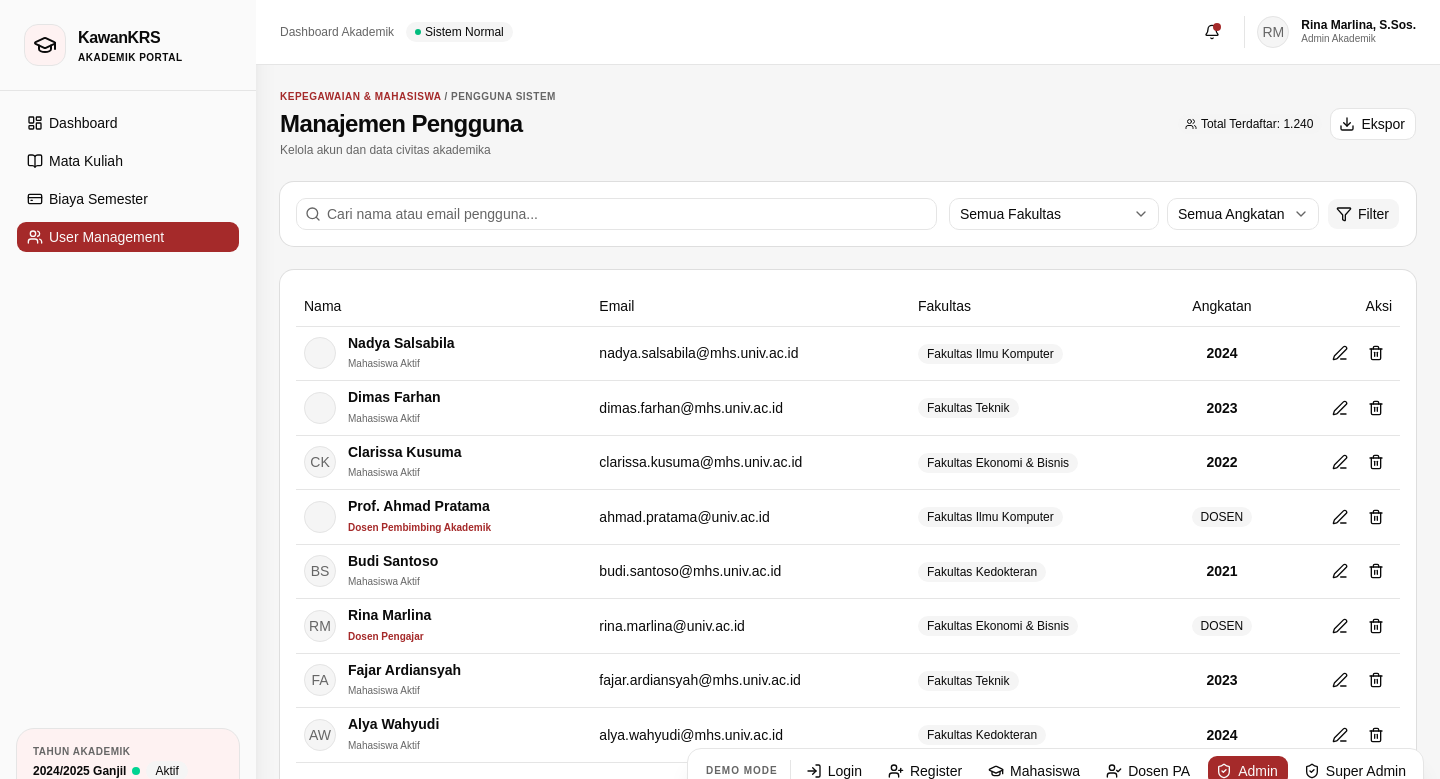
Test: shadcn controls and accessibility › requires explicit confirmation before deleting on /admin/pengguna
This screenshot has width=1440, height=779.
Step 1. Click the button named "Hapus" in the row of "Nadya Salsabila" → click(1376, 353), box [1360,337,1392,369]
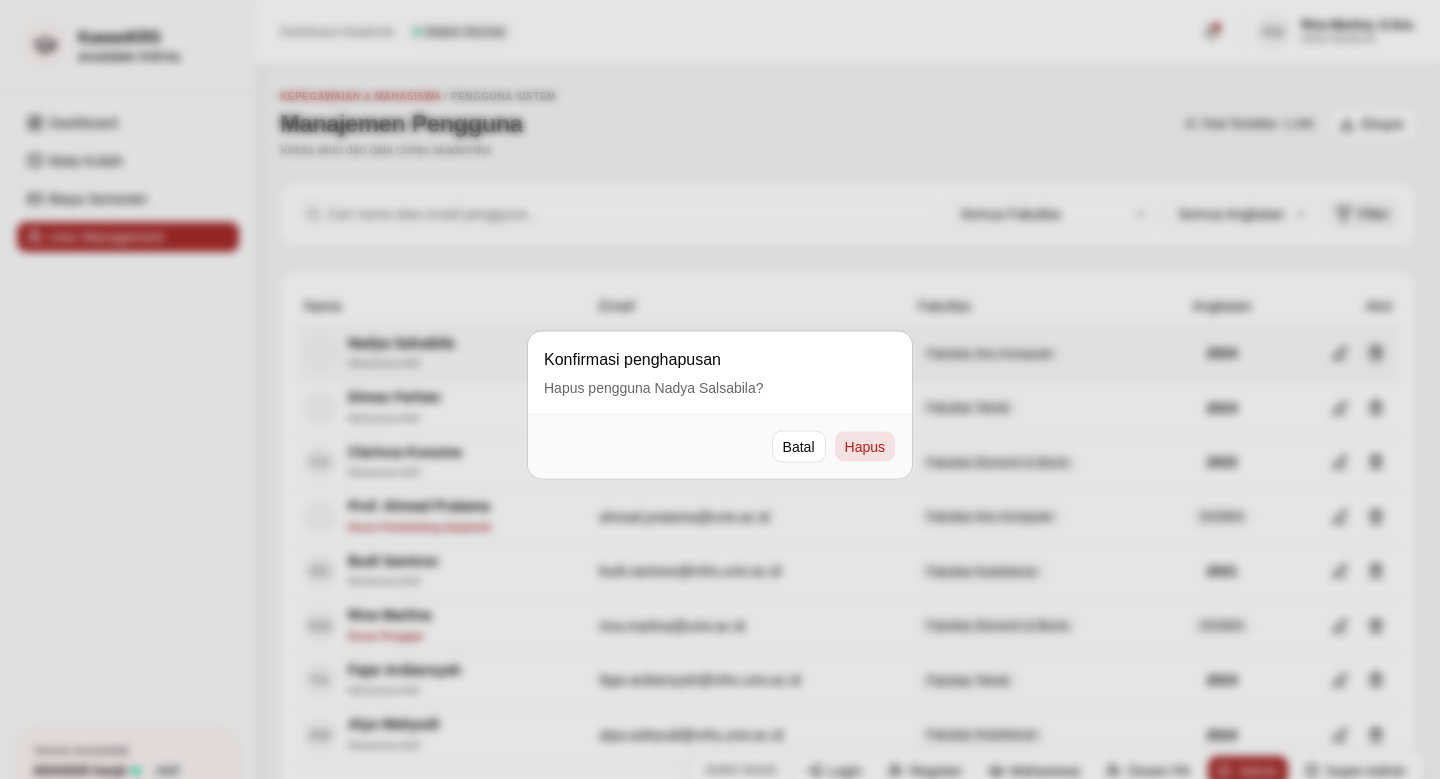
Step 2. Click the button "Batal" → click(799, 446), box [772,430,826,462]
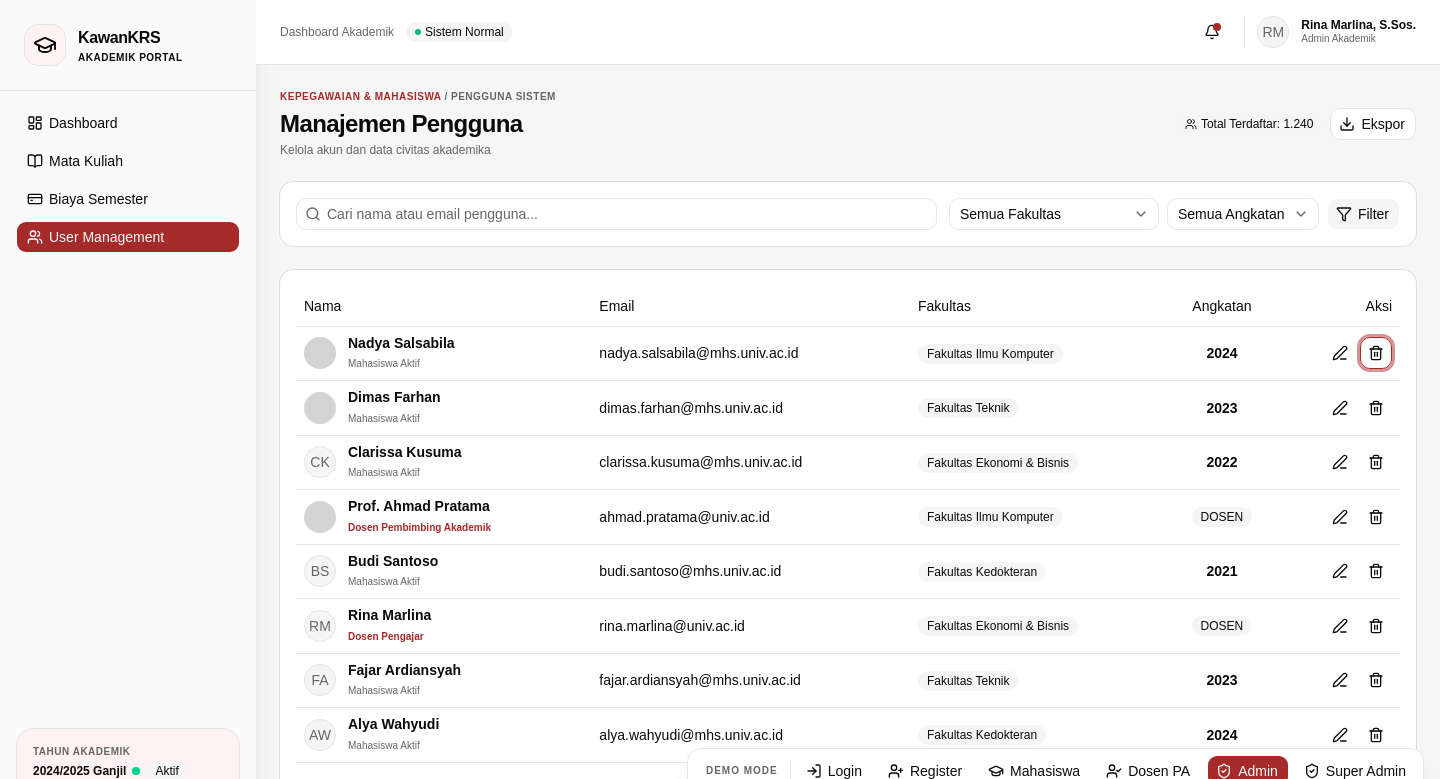
Expected: the dialog is gone
Step 3. Click the button named "Hapus" in the row of "Nadya Salsabila" → click(1376, 353), box [1360,337,1392,369]
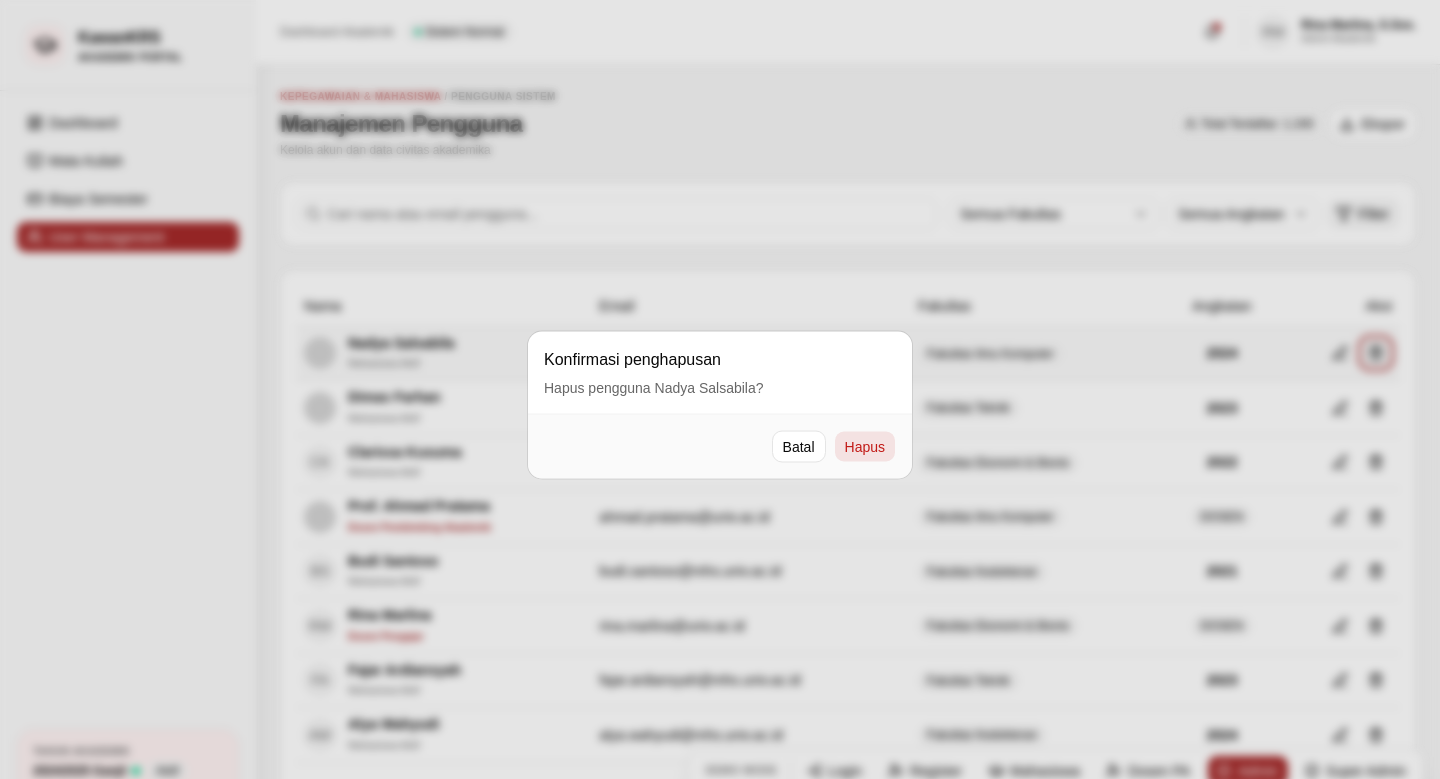
Step 4. Click the button "Hapus" → click(865, 446), box [834,430,896,462]
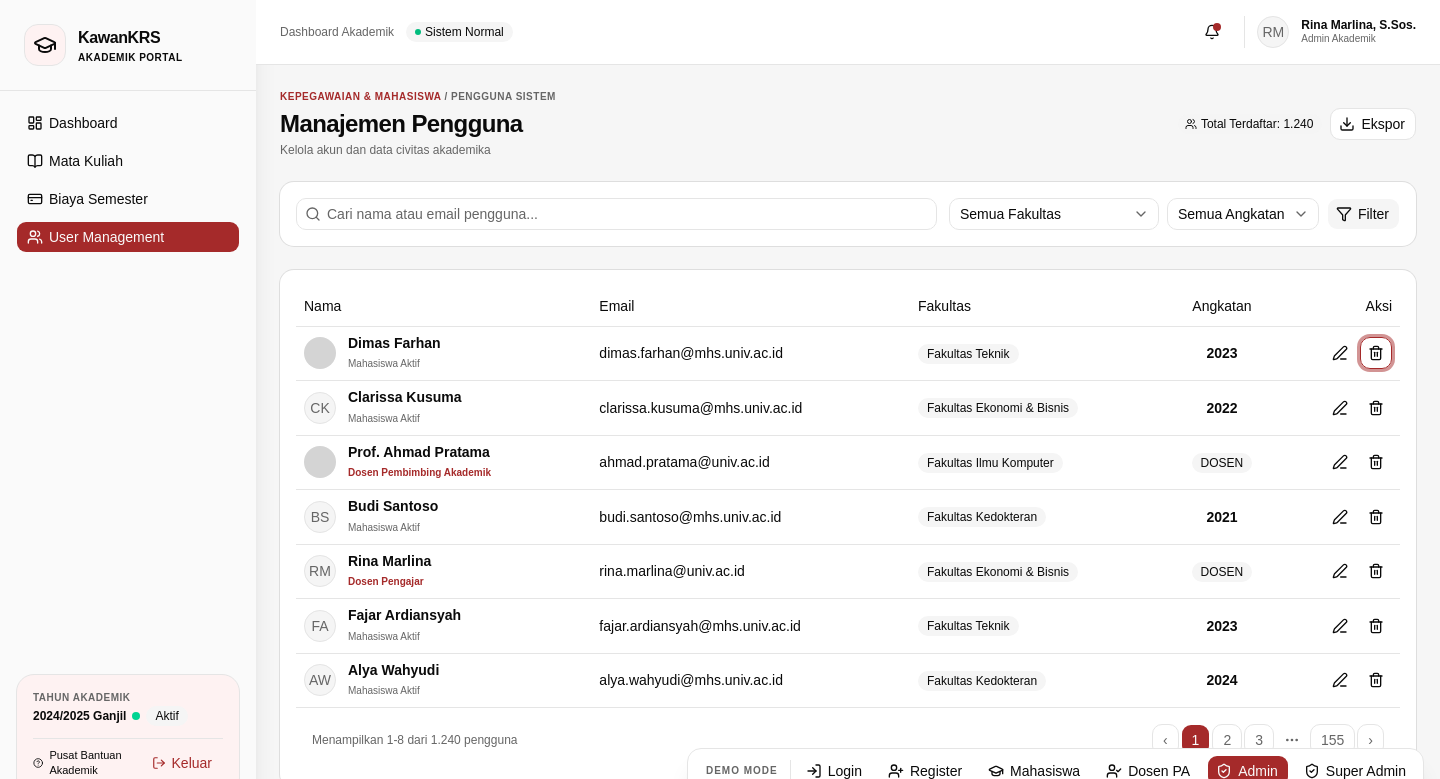
Expected: the dialog is gone
Expected: the number of rows is 8
